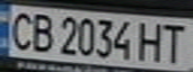0: (75, 15, 96, 57)
2: (54, 12, 78, 56)
3: (93, 16, 118, 60)
4: (112, 17, 139, 61)
B: (27, 10, 57, 54)
C: (3, 8, 39, 52)
H: (136, 19, 169, 63)
T: (157, 20, 190, 63)
